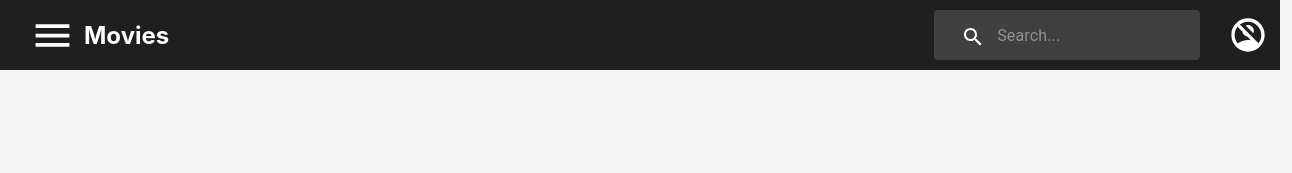
Test case: render Header › should open right menu with SignIn menu item when menu was clicked when user signed out
This screenshot has width=1292, height=173.
Click the button with test id "NoAccountsIcon": (1248, 35) [1216,15,1280,55]
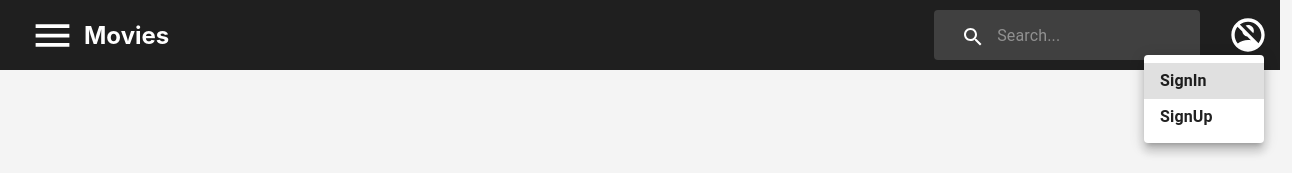
expect the menu item "SignIn" is shown: met, box [1144,63,1264,99]
